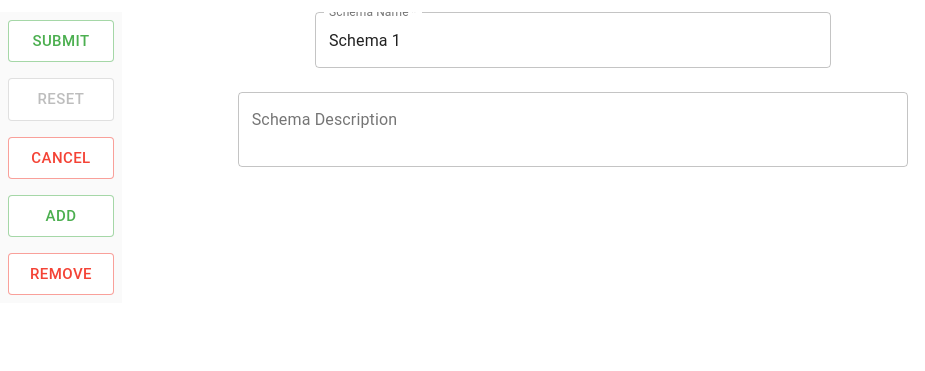
SchemaForm › "Remove" button shows and hides "All" button
This screenshot has width=925, height=371.
// enable remove mode and show All button
Step 1. Click the button "Remove" → point(61, 274), box [8, 253, 114, 295]
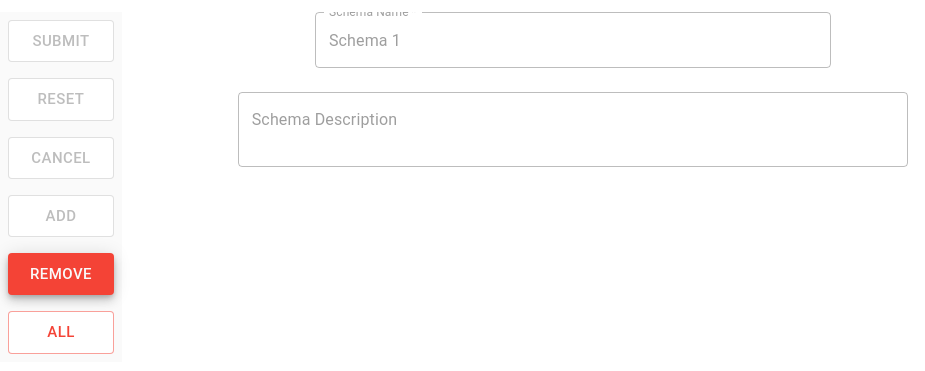
Check: the button "All" is shown, box [8, 311, 114, 354]
// disable remove mode and hide All button
Step 2. Click the button "Remove" → point(61, 274), box [8, 253, 114, 295]
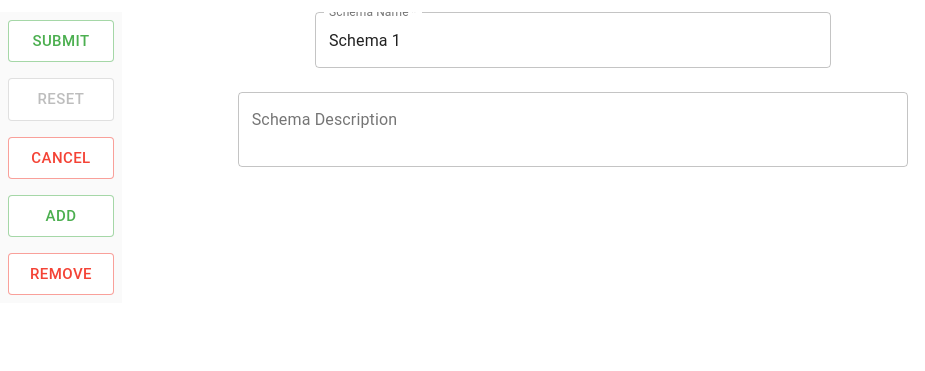
Check: the button "All" is gone
